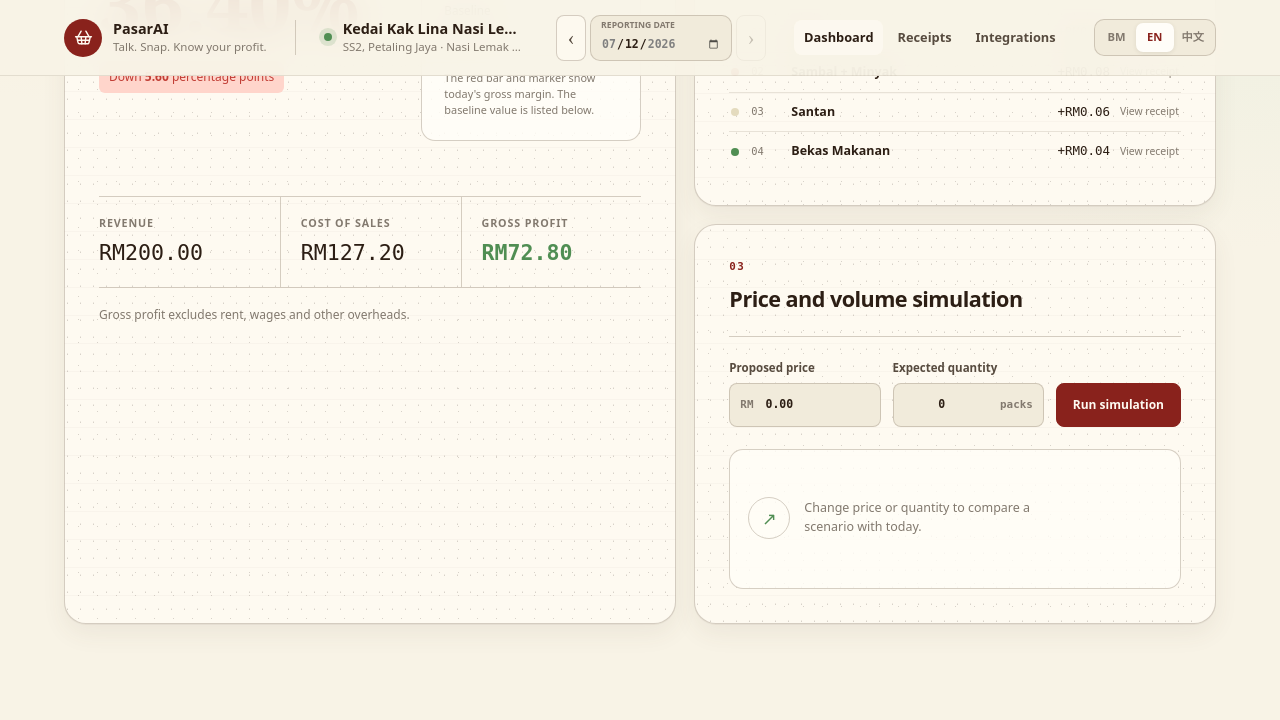
Test: merchant dashboard › runs a read-only price simulation through the API boundary
The image size is (1280, 720).
(page scrolled)
Replace the text in the field labelled "Proposed price" with "5.50". click: (822, 405)
box: [764,386,880,424]
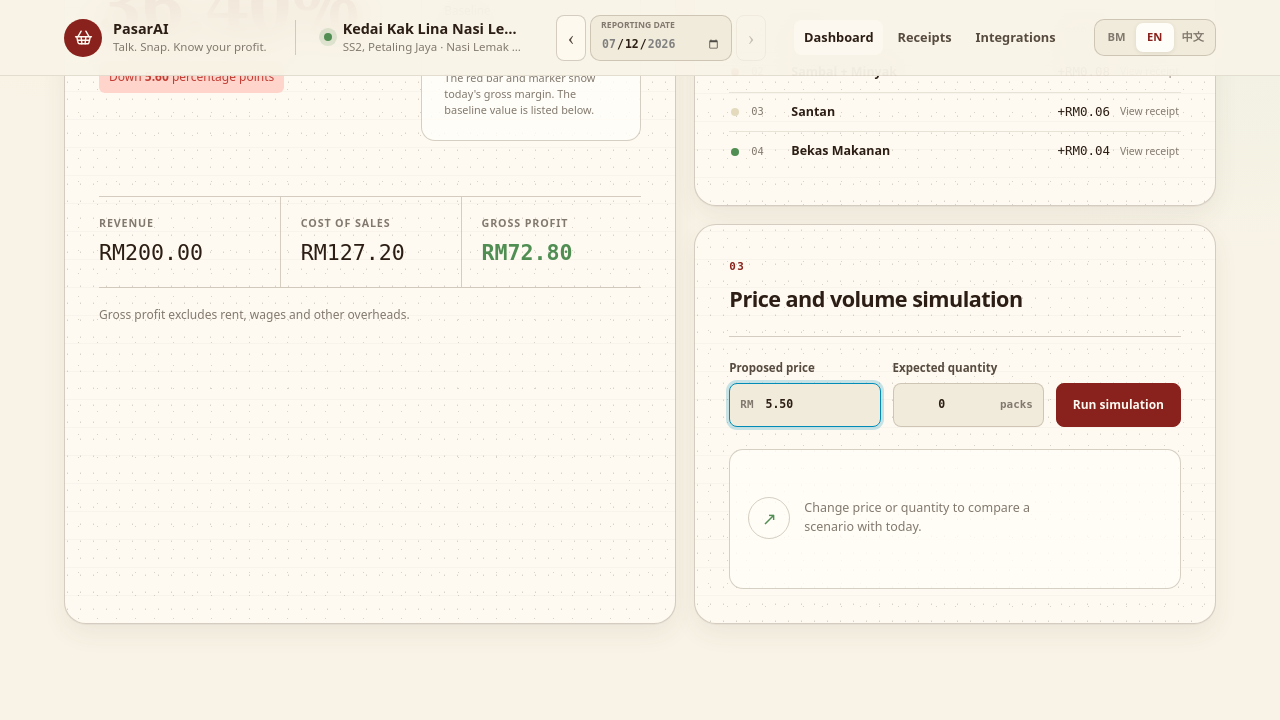
Replace the text in the field labelled "Expected quantity" with "35". click: (942, 405)
box: [894,386,990,424]
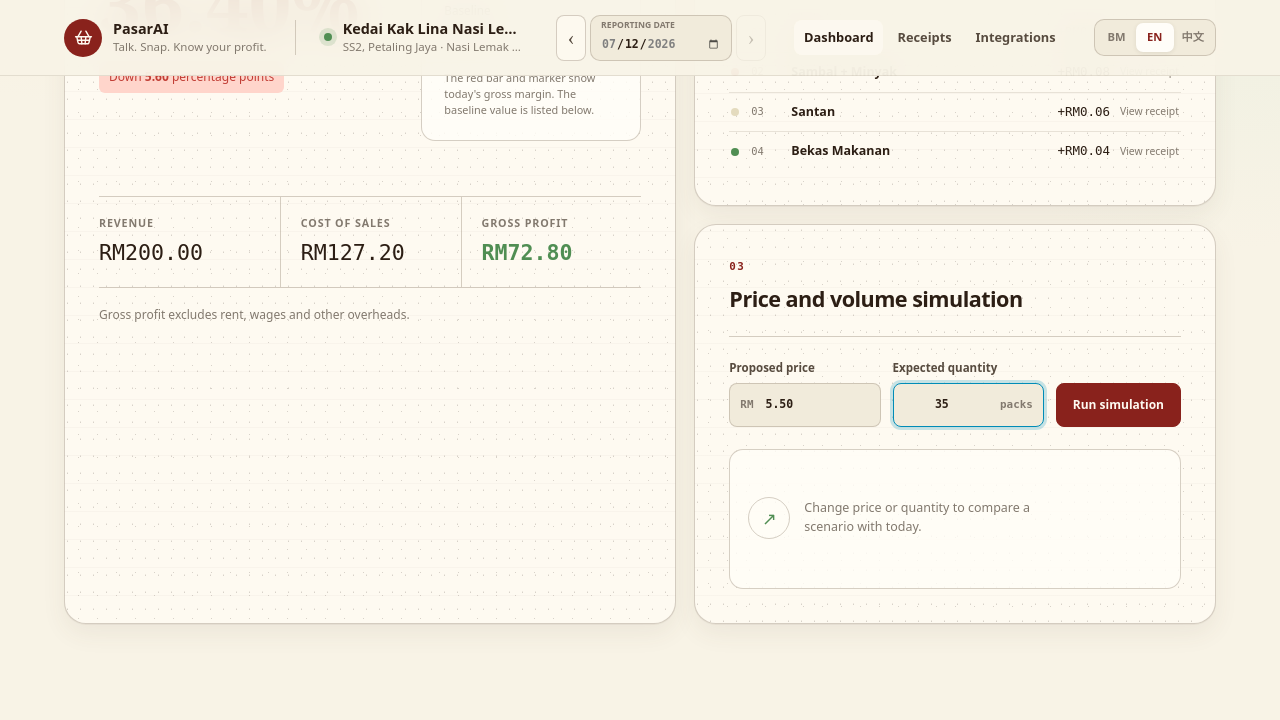
Click the button "Run simulation". click: (1118, 405)
box: [1056,383,1181,427]
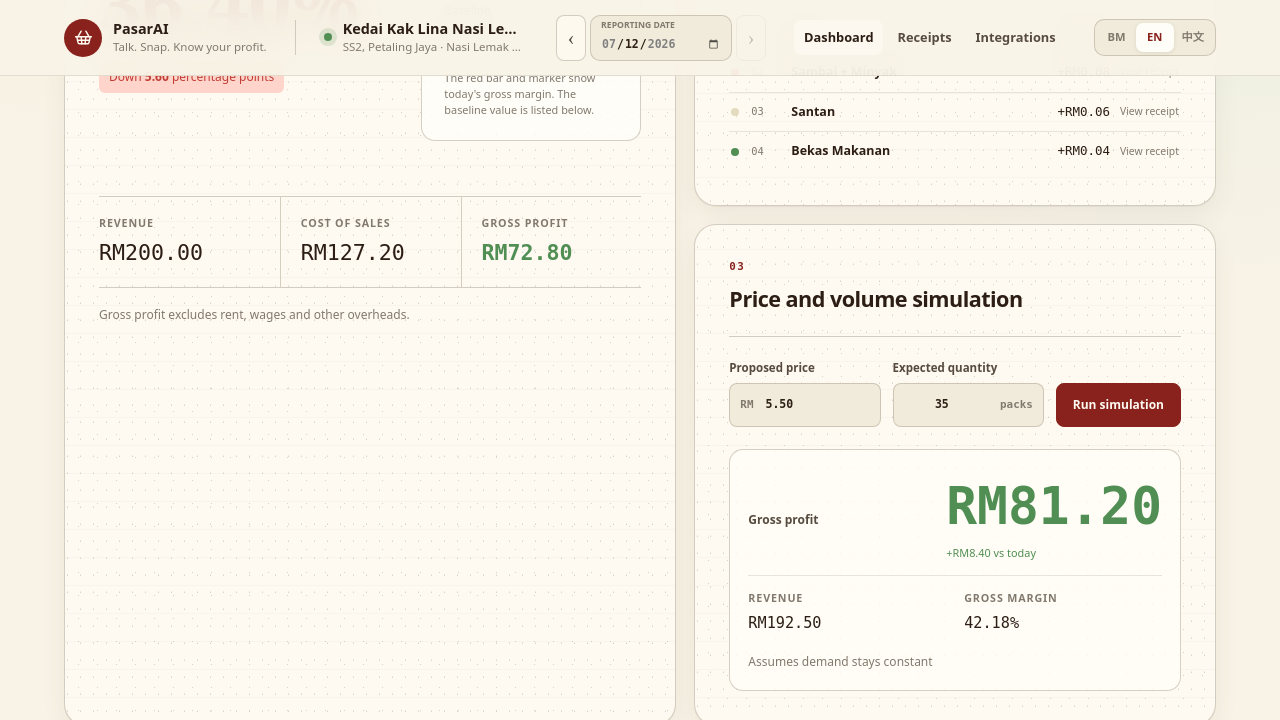
Result: the text "RM81.20" is shown at [946,468,1162,545]
Result: the text "Assumes demand stays constant" is shown at [748,653,933,670]
